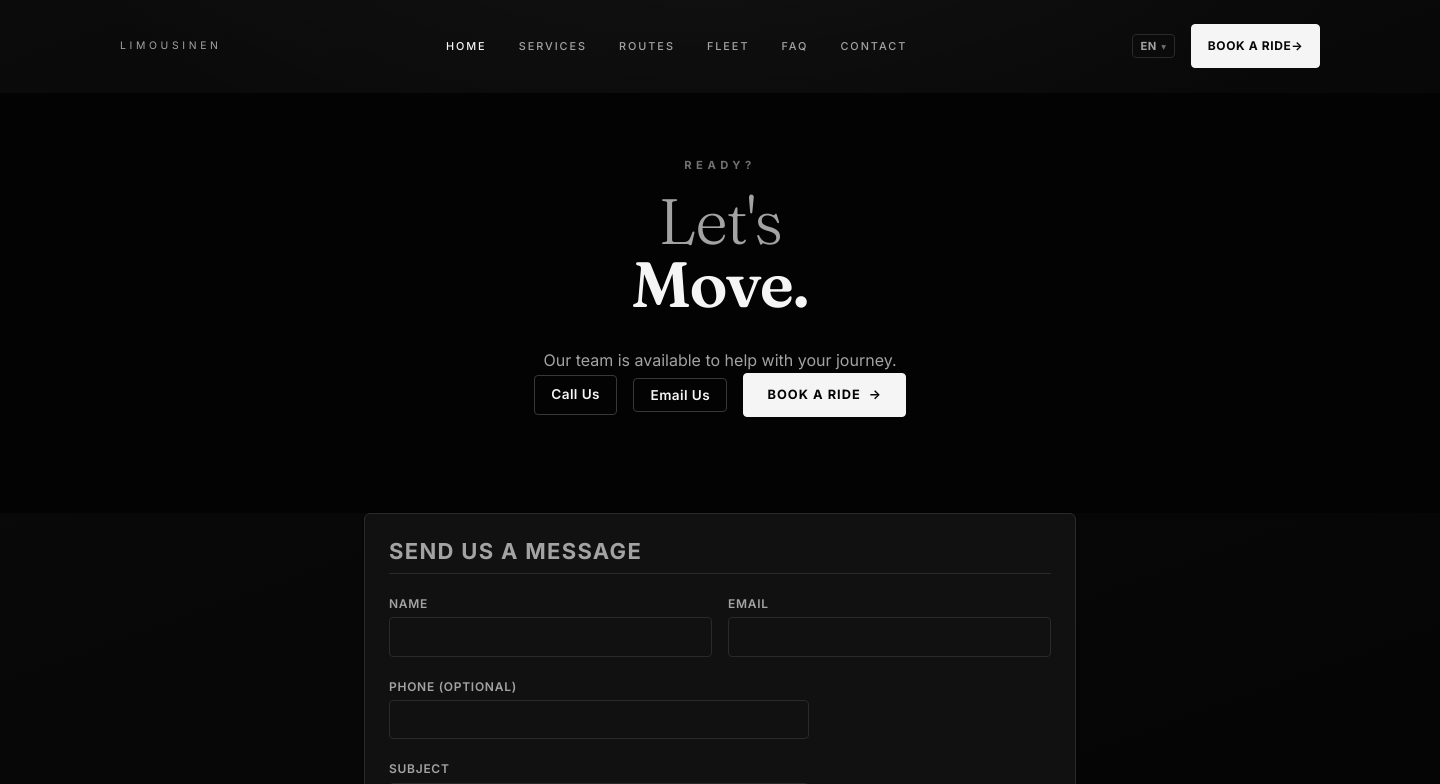
Test: ContactPage › shows an error message when submission fails
Type "Jane Doe" into the field labelled "Name" at (550, 637), box [389,617,712,657]
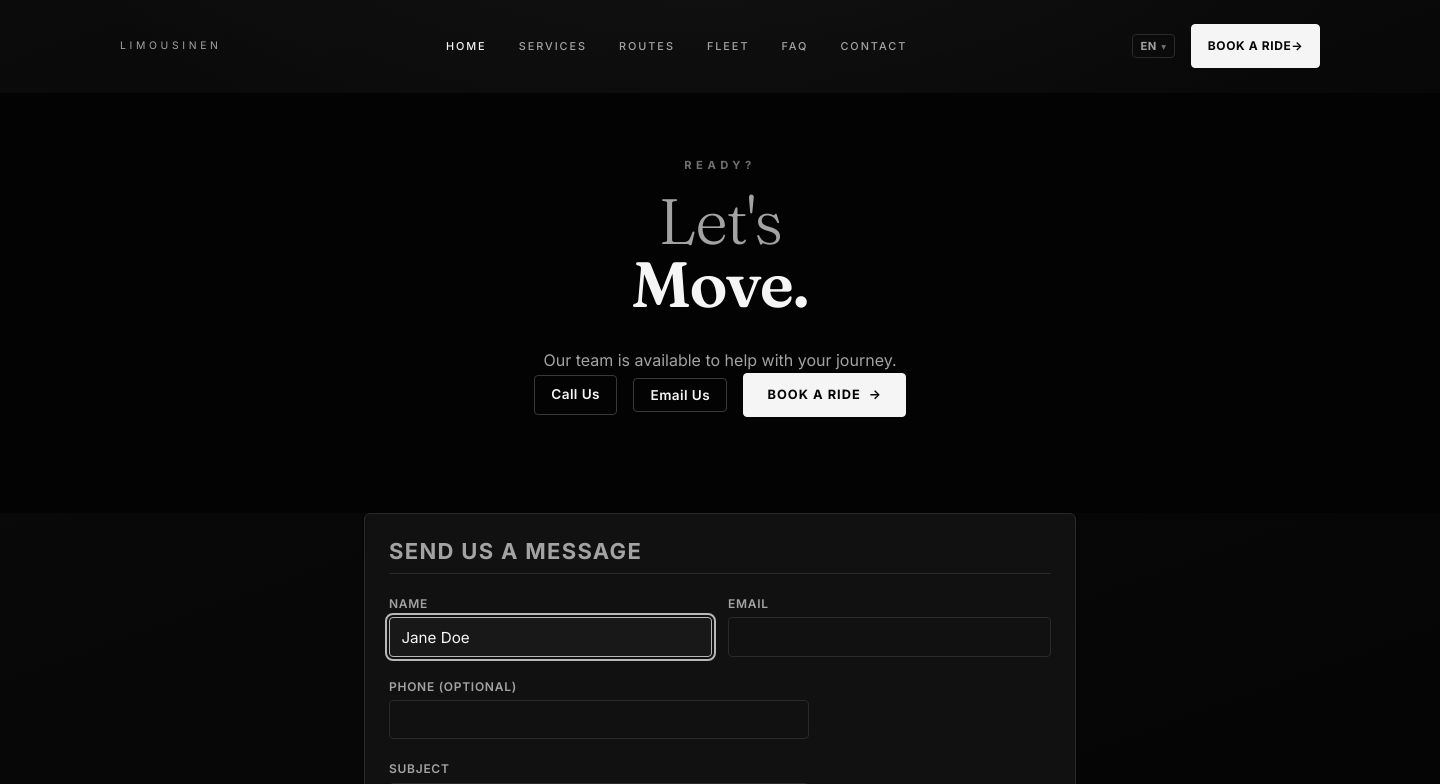
Type "jane@example.com" into the field labelled "Email" at (890, 637), box [728,617,1051,657]
(page scrolled)
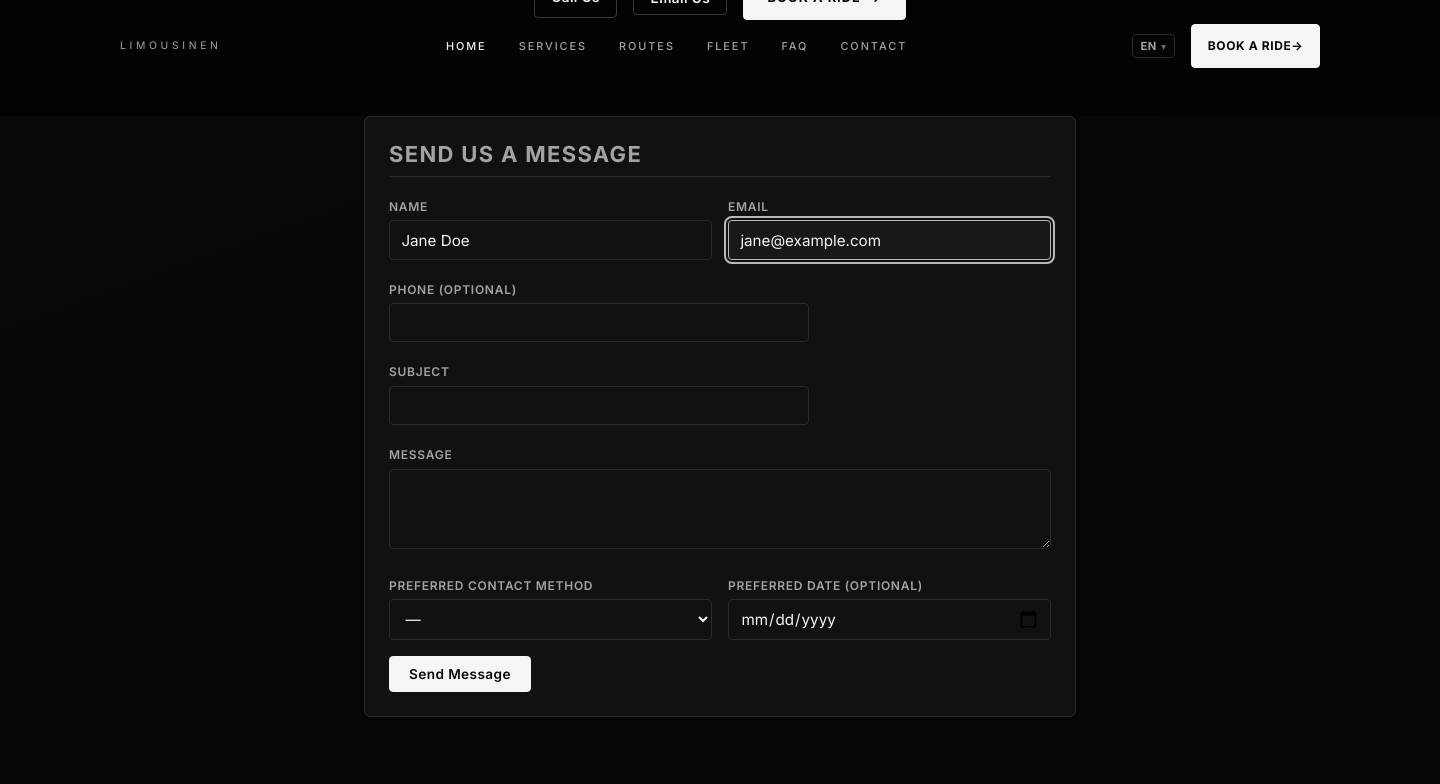
Type "Question about a booking" into the field labelled "Subject" at (599, 406), box [389,386,809,425]
(page scrolled)
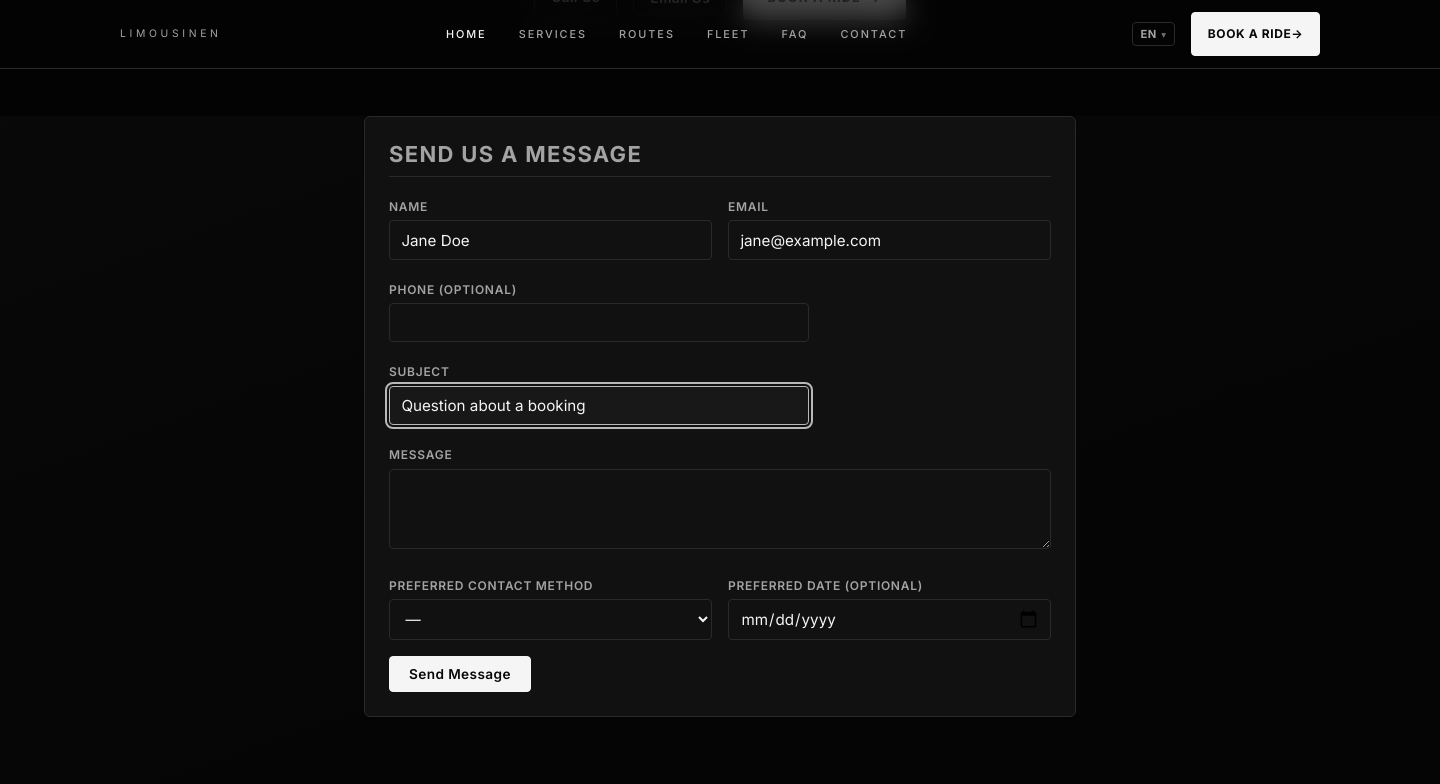
Type "I would like more information about your airport transfer service." into the text box labelled "Message" at (720, 509), box [389,469,1051,549]
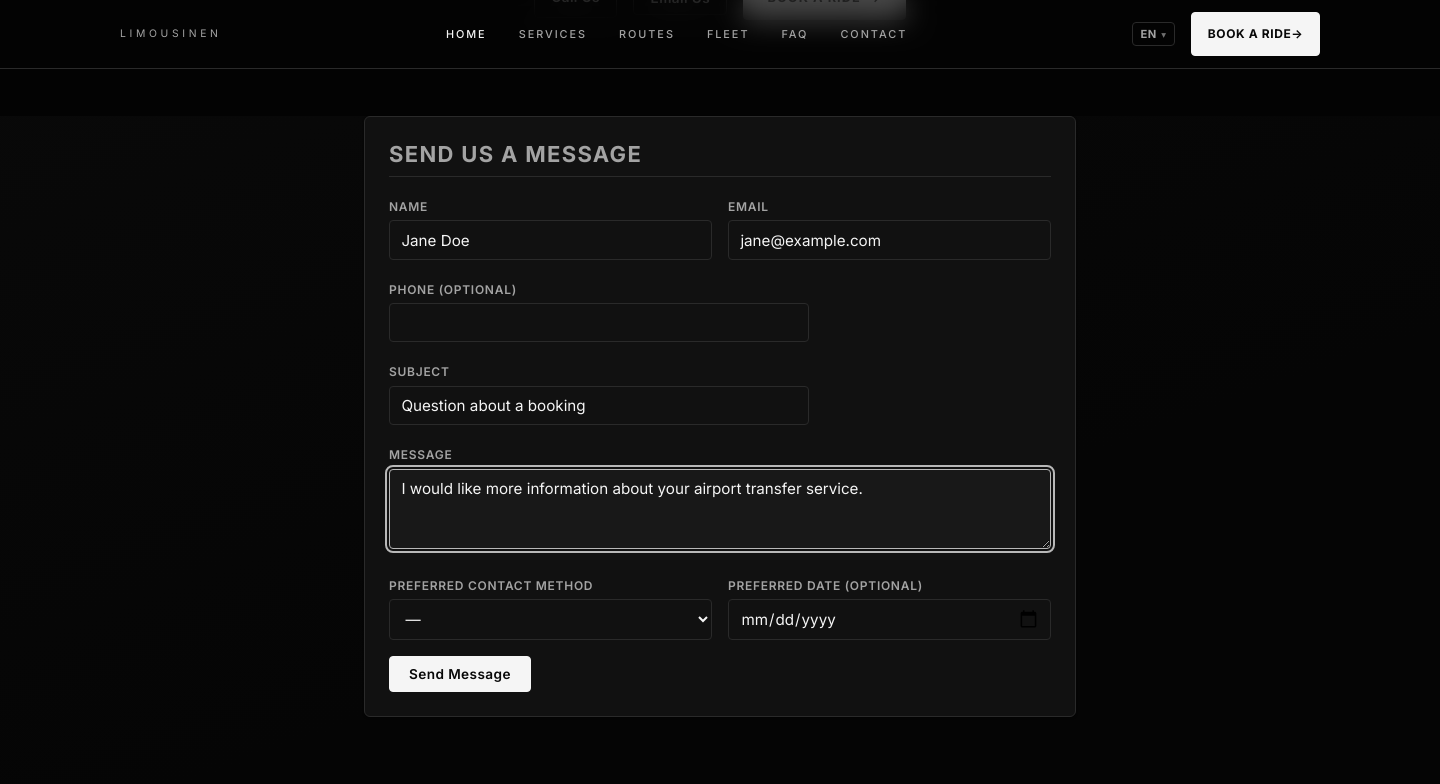
Click the button "Send Message" at (460, 674), box [389,656,531,692]
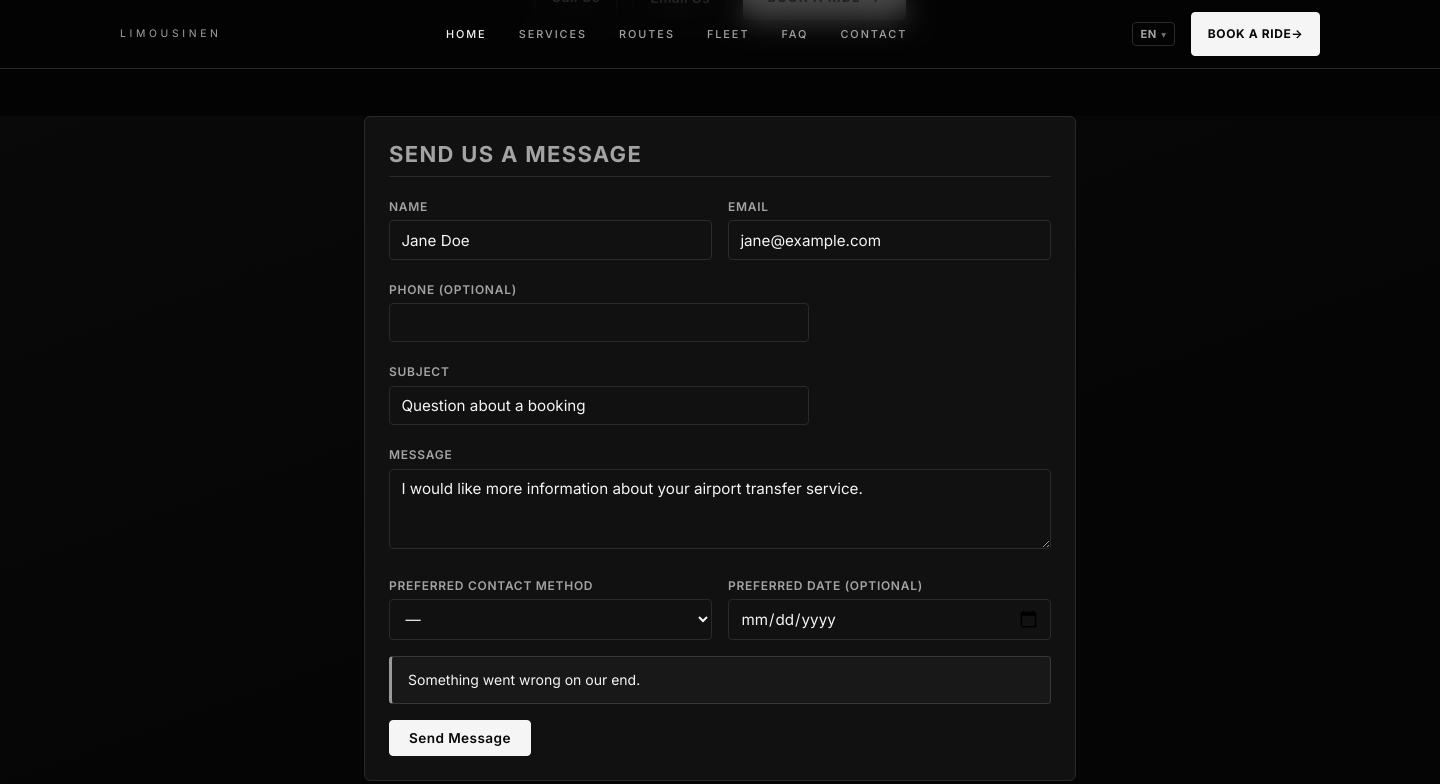
Expected: the message reads "Something went wrong on our end.", [408,672,640,688]
